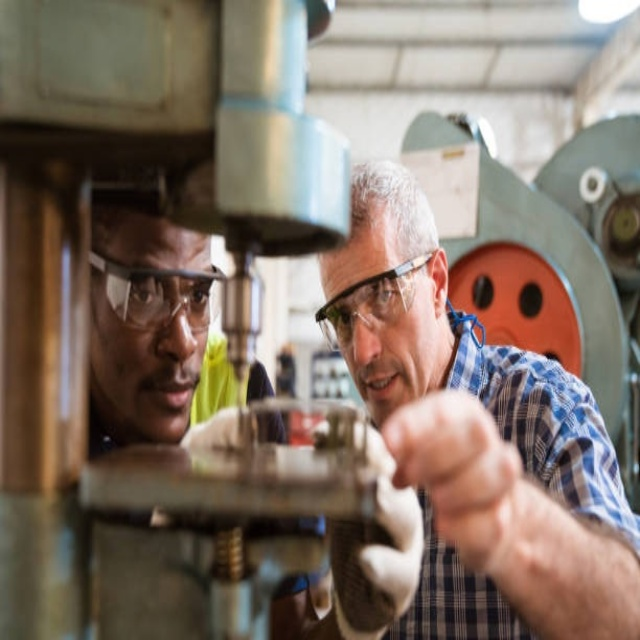Gafas: (314, 251, 436, 352), (90, 250, 227, 332)
Guantes: (327, 426, 425, 638), (183, 405, 260, 460)
Sin_guantes: (373, 384, 522, 582)
Sin_mascara: (139, 359, 193, 424), (356, 365, 403, 403)
